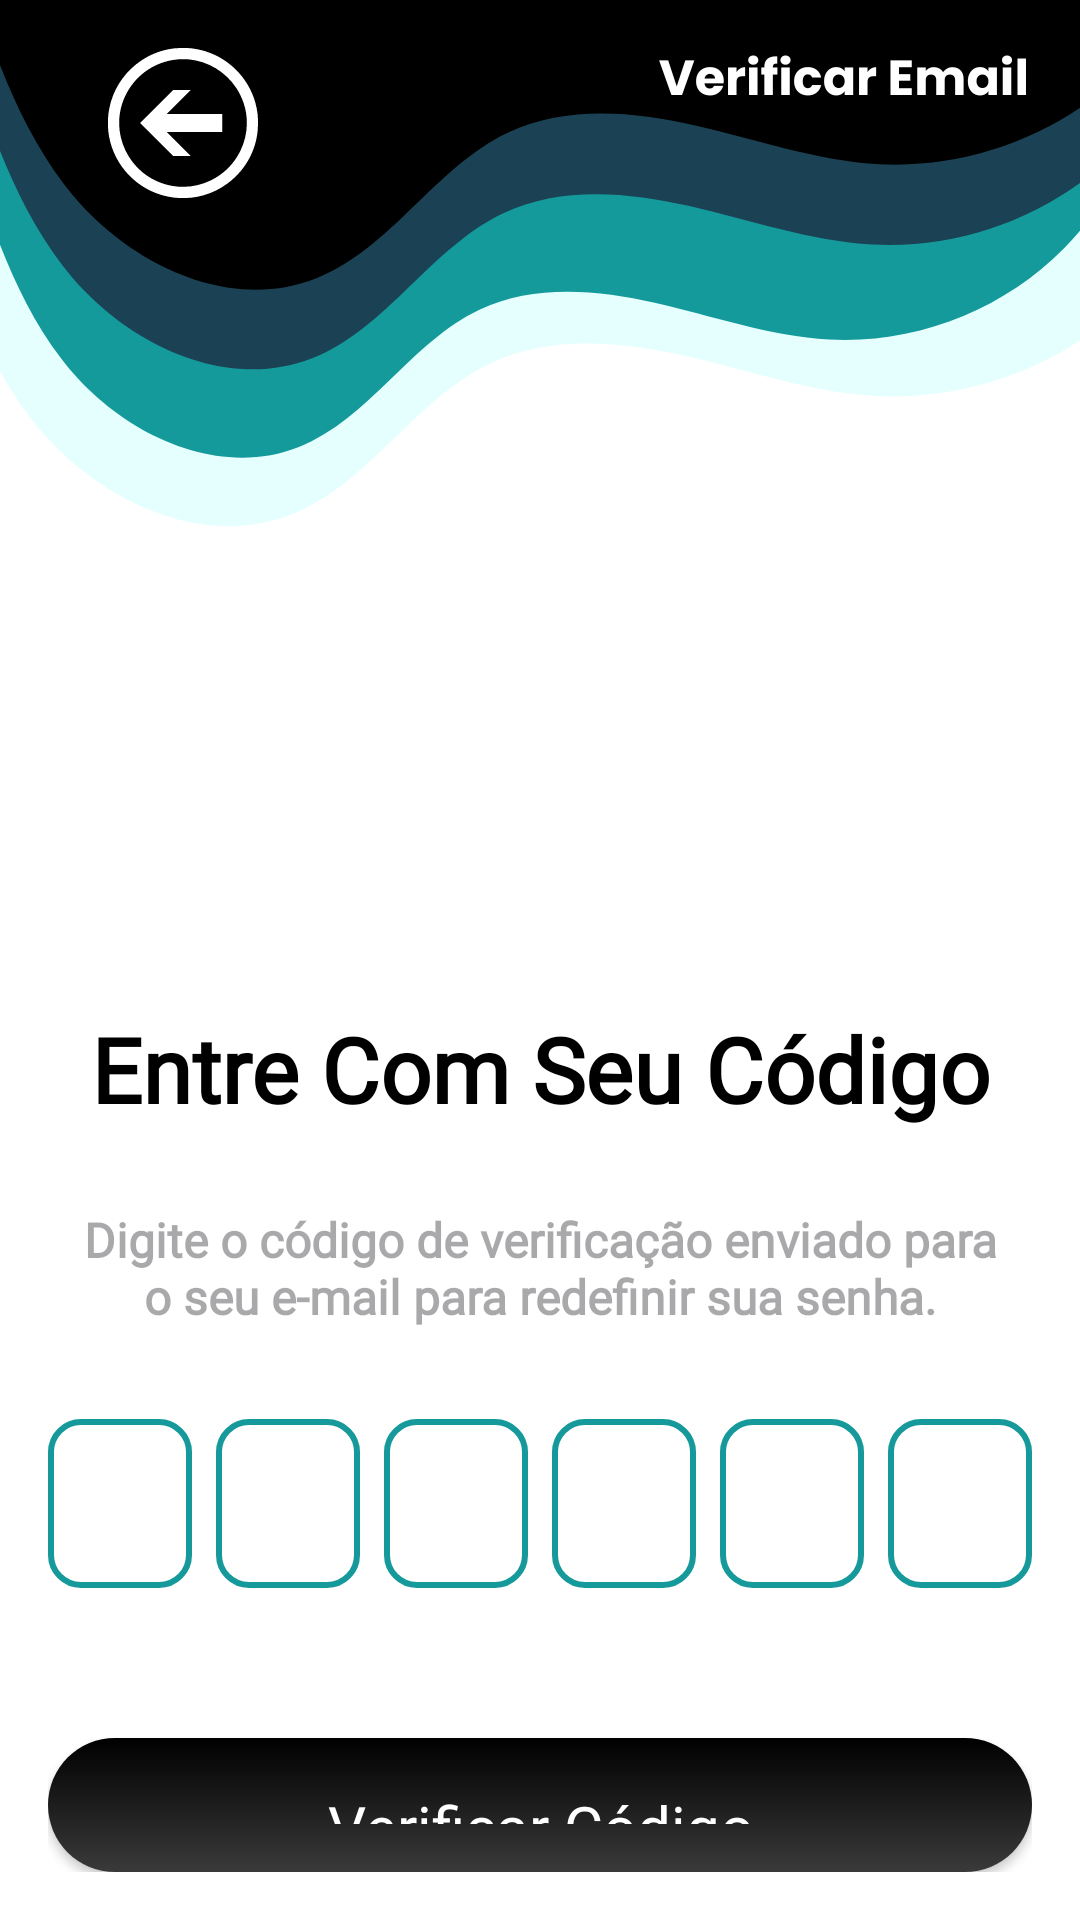

Point at icon controls on the screen. Image size 1080×1920, points as [x,y].
Voltar: [183,123]
